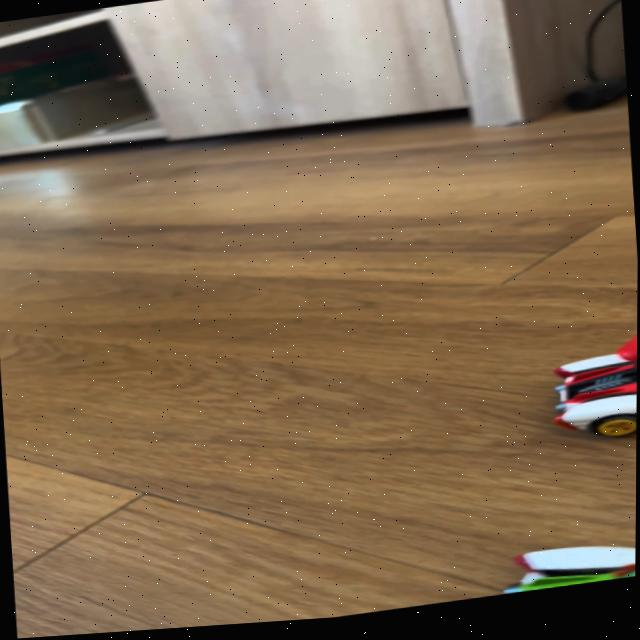mario: (525, 333, 638, 450)
yoshi: (474, 534, 637, 604)
